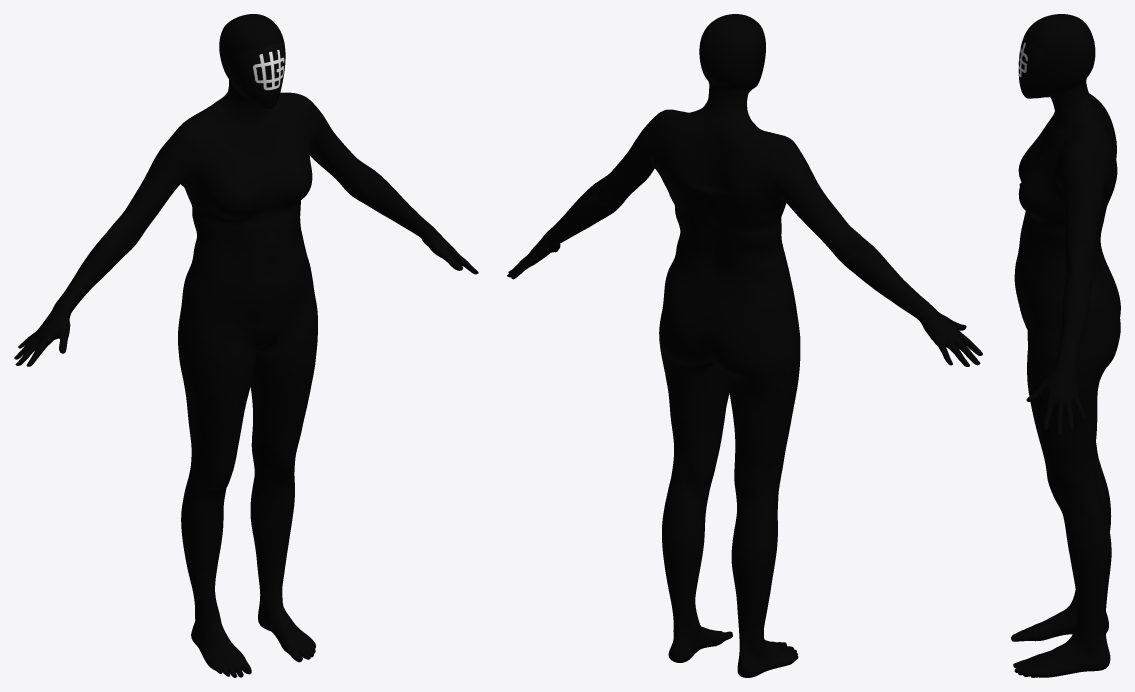
The model's file is AvatarF.glb.
The picture shows the model from 3 angles, left to right: view 1: azimuth 30°, elevation 25°; view 2: azimuth 150°, elevation 25°; view 3: azimuth 270°, elevation 25°; orthographic projection.
Parts seen in each view (by area): view 1: body_female (1); view 2: body_female (1); view 3: body_female (1).
Part boxes in pixels (x1,y1,x2,y2): body_female (1): (14,14,478,677); body_female (1): (507,14,982,677); body_female (1): (1011,14,1120,677).
Bounding box in the file's own units: 3.1 × 4.05 × 0.6312.
Materials: 1 (1 with a texture image).
